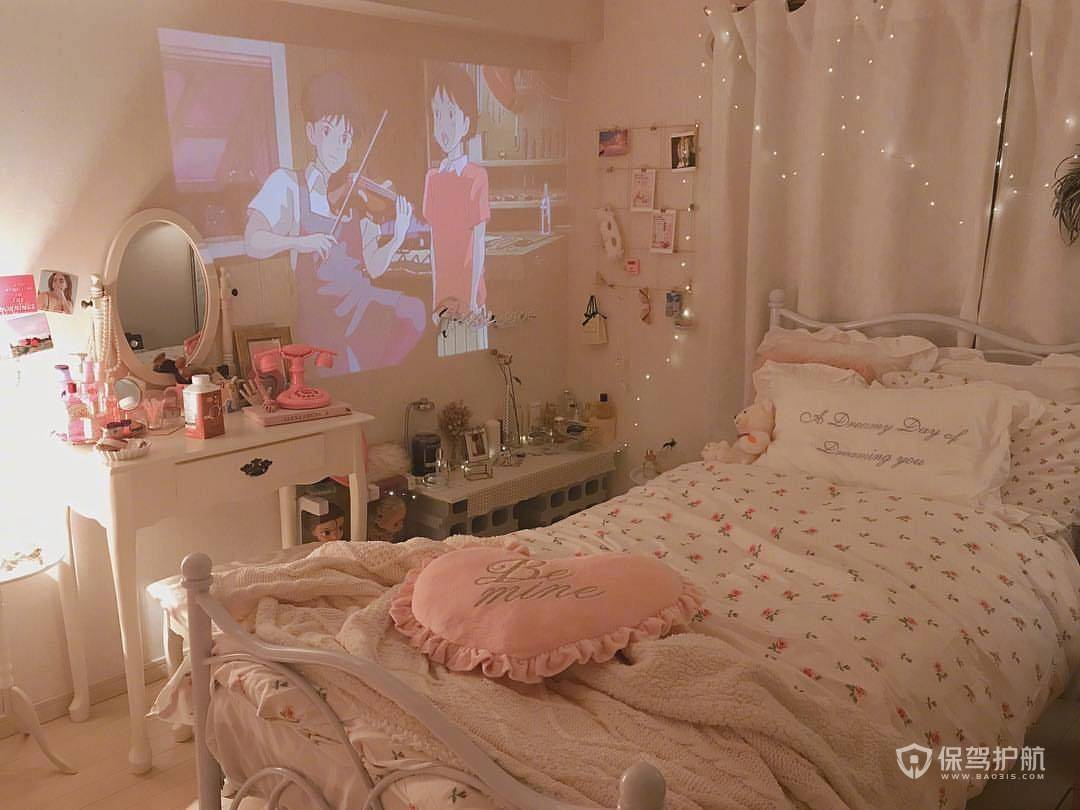床: (171, 478, 1071, 810)
枕头: (381, 524, 707, 696), (748, 353, 1029, 529)
